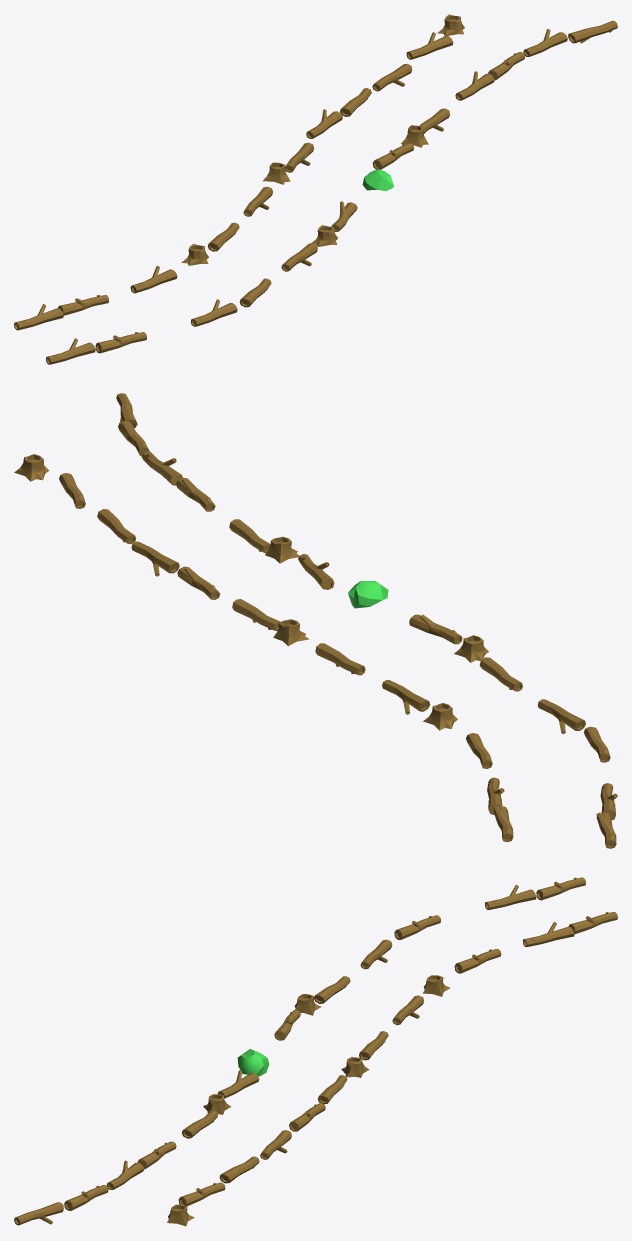
File: AtajoMadera.fbx
3 views of the same model, one above another, from view 1: azimuth 90°, elevation 25°; view 2: azimuth 150°, elevation 25°; view 3: azimuth 270°, elevation 25° (orthographic). The views are drawn at different scales.
Parts seen in each view (by area): view 1: default7.094, default7.019, default7.074, Esfera geodésica.1049, default7.110, default7.108, default7.096, default7.097, default7.095, default7.109, default7.103, default7.106; view 2: Esfera geodésica.1049, default7.071, default7.105, default7.098, default7.070, default7.102, default7.100, default7.107; view 3: Esfera geodésica.1049, default7.110, default7.095, default7.094, default7.019, default7.096, default7.097, default7.108, default7.074, default7.109.
Boxes of the visible parts, x1,y1,x2,y2 form: default7.094: (95,332,146,353); default7.019: (46,338,95,364); default7.074: (14,304,63,330); Esfera geodésica.1049: (362,169,393,191); default7.110: (568,20,617,43); default7.108: (406,32,453,59); default7.096: (191,299,237,326); default7.097: (130,266,177,293); default7.095: (58,295,108,315); default7.109: (523,29,567,56); default7.103: (372,63,412,91); default7.106: (455,71,494,100); Esfera geodésica.1049: (348,580,388,608); default7.071: (409,614,462,644); default7.105: (131,541,179,576); default7.098: (382,680,430,714); default7.070: (537,699,585,733); default7.102: (315,643,365,675); default7.100: (232,599,280,630); default7.107: (141,451,182,485); Esfera geodésica.1049: (237,1049,269,1076); default7.110: (14,1202,63,1225); default7.095: (523,922,574,947); default7.094: (485,884,536,909); default7.019: (536,877,585,900); default7.096: (394,915,440,939); default7.097: (454,949,501,973); default7.108: (178,1182,225,1206); default7.074: (568,912,617,934); default7.109: (64,1185,108,1210).
Size of the model in its own units: 2591 by 88.35 by 1931.
